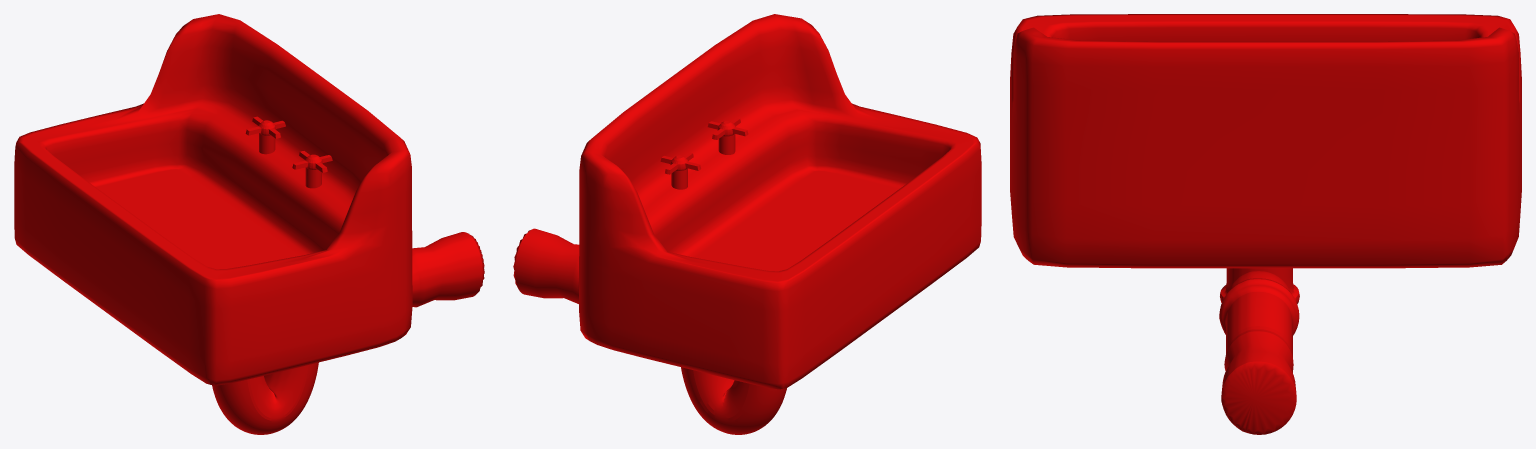
Rendered from SetoSink2.fbx.
3 views of the same model, side by side, from view 1: azimuth 30°, elevation 25°; view 2: azimuth 150°, elevation 25°; view 3: azimuth 270°, elevation 25° (orthographic). The views are drawn at different scales.
Visible parts, largest first — view 1: Sink2; view 2: Sink2; view 3: Sink2.
Part boxes in pixels (bbox=[...]): Sink2: bbox=[14, 14, 484, 434]; Sink2: bbox=[513, 14, 981, 434]; Sink2: bbox=[1010, 14, 1521, 434].
Size of the model in its own units: 68.67 by 60.96 by 67.87.
